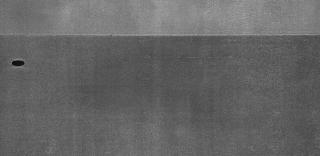punching hole: (10, 57, 26, 69)
welding line: (2, 30, 316, 43)
